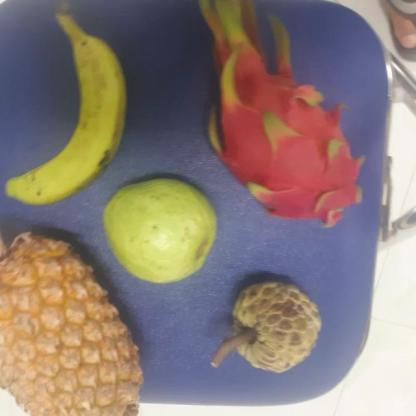annona: (230, 277, 324, 372)
banana: (8, 36, 126, 202)
guava: (103, 181, 222, 283)
pineapple: (0, 224, 149, 416)
pitaya: (204, 50, 371, 226)
